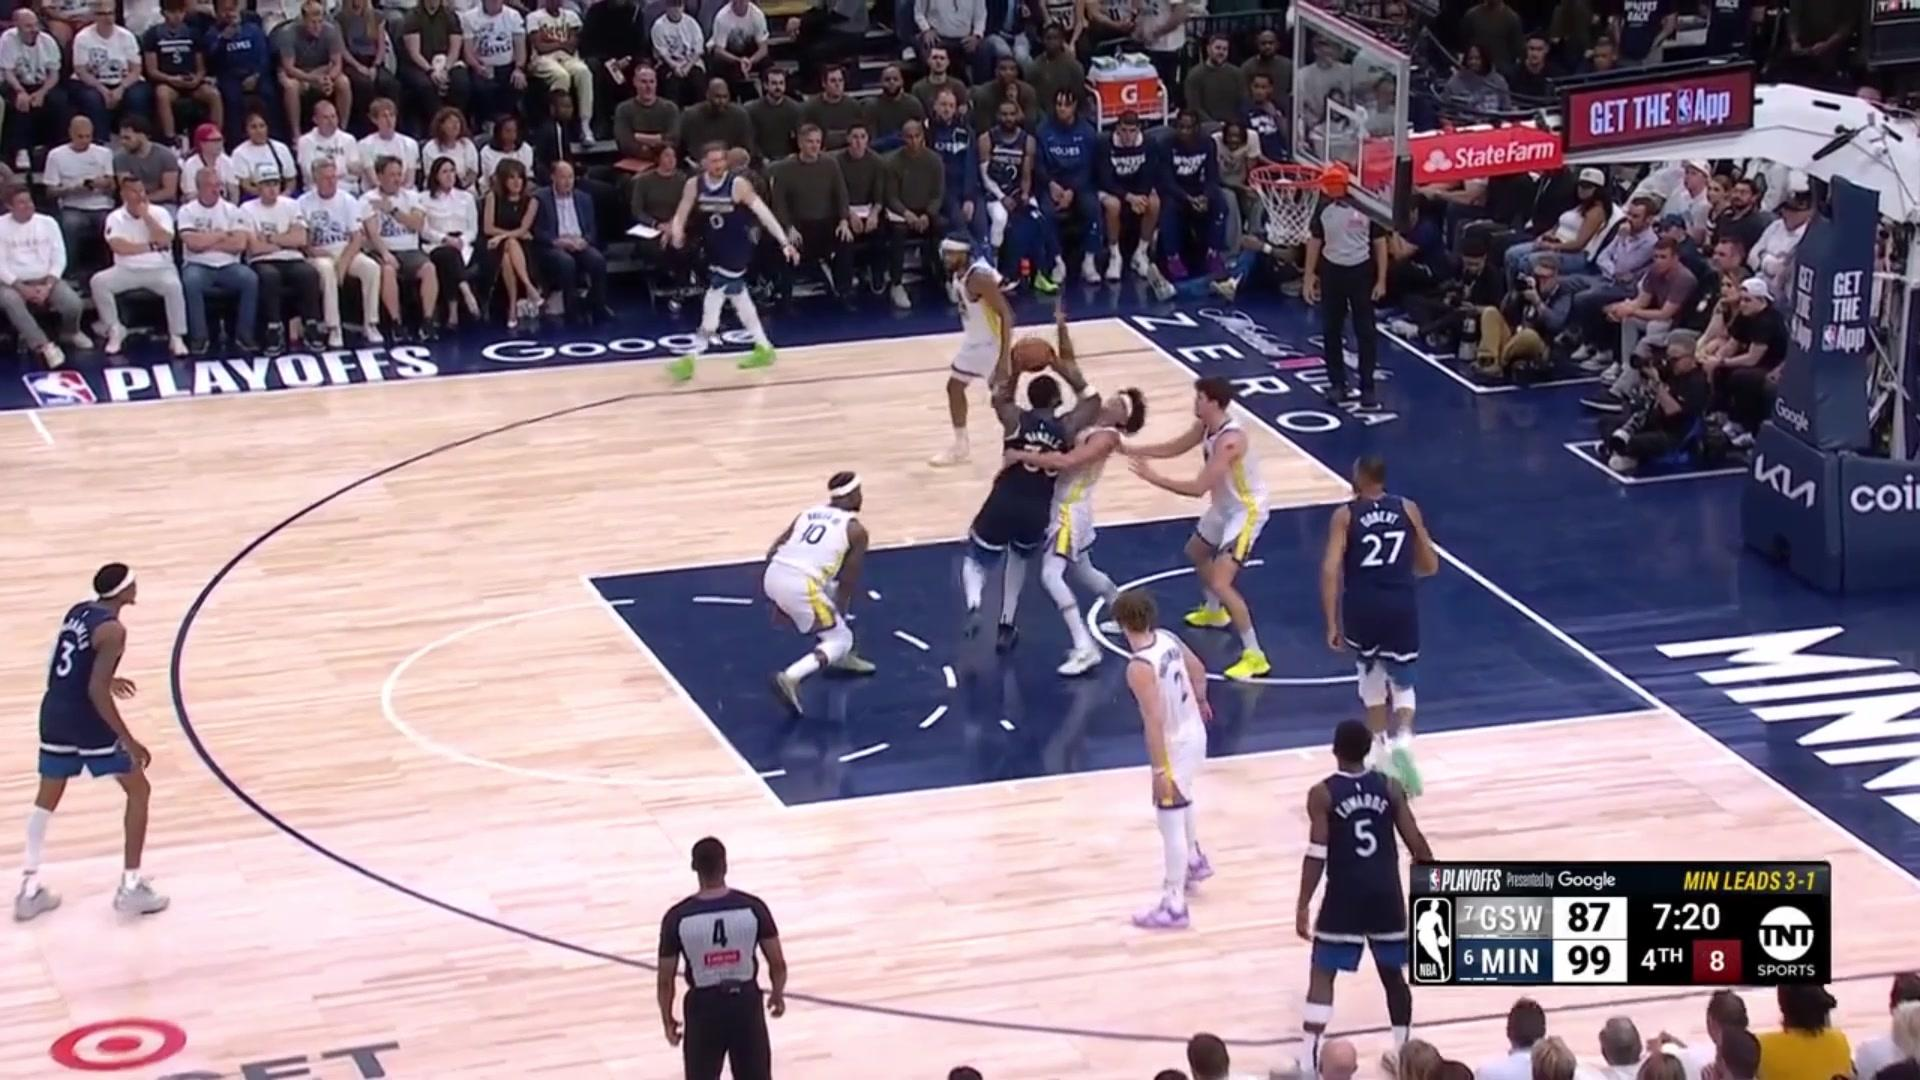foul: (977, 343, 1159, 634)
